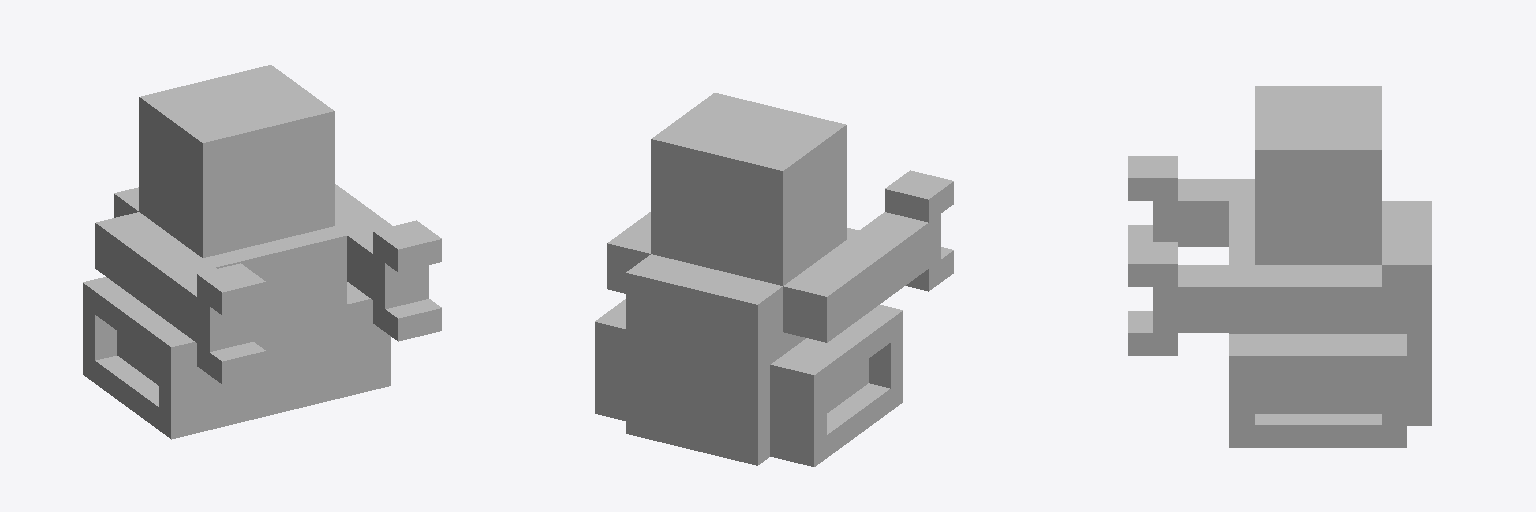
File: tracked robot.obj
3 renders of one model, left to right at view 1: azimuth 30°, elevation 25°; view 2: azimuth 150°, elevation 25°; view 3: azimuth 270°, elevation 25°, orthographic.
Bounding box in the file's own units: 20 × 24 × 24.